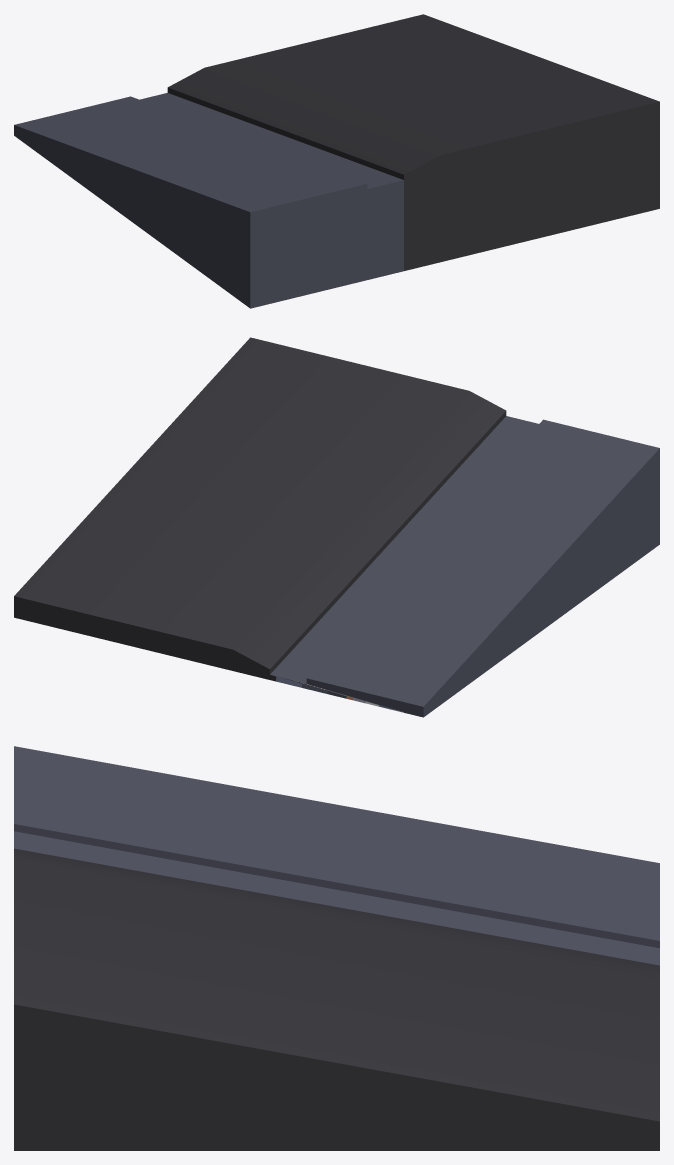
The model's file is road-edge-slope.glb.
The picture shows the model from 3 angles, top to bottom: view 1: azimuth 30°, elevation 25°; view 2: azimuth 150°, elevation 25°; view 3: azimuth 270°, elevation 25°; orthographic projection. The views are drawn at different scales.
Parts seen in each view (by area): view 1: road-edge-slope; view 2: road-edge-slope; view 3: road-edge-slope.
Part boxes in pixels (x1,y1,x2,y2): road-edge-slope: [14, 14, 659, 308]; road-edge-slope: [14, 337, 659, 717]; road-edge-slope: [14, 746, 659, 1150].
Size of the model in its own units: 1 by 0.25 by 1.
1 material, 1 textured.
